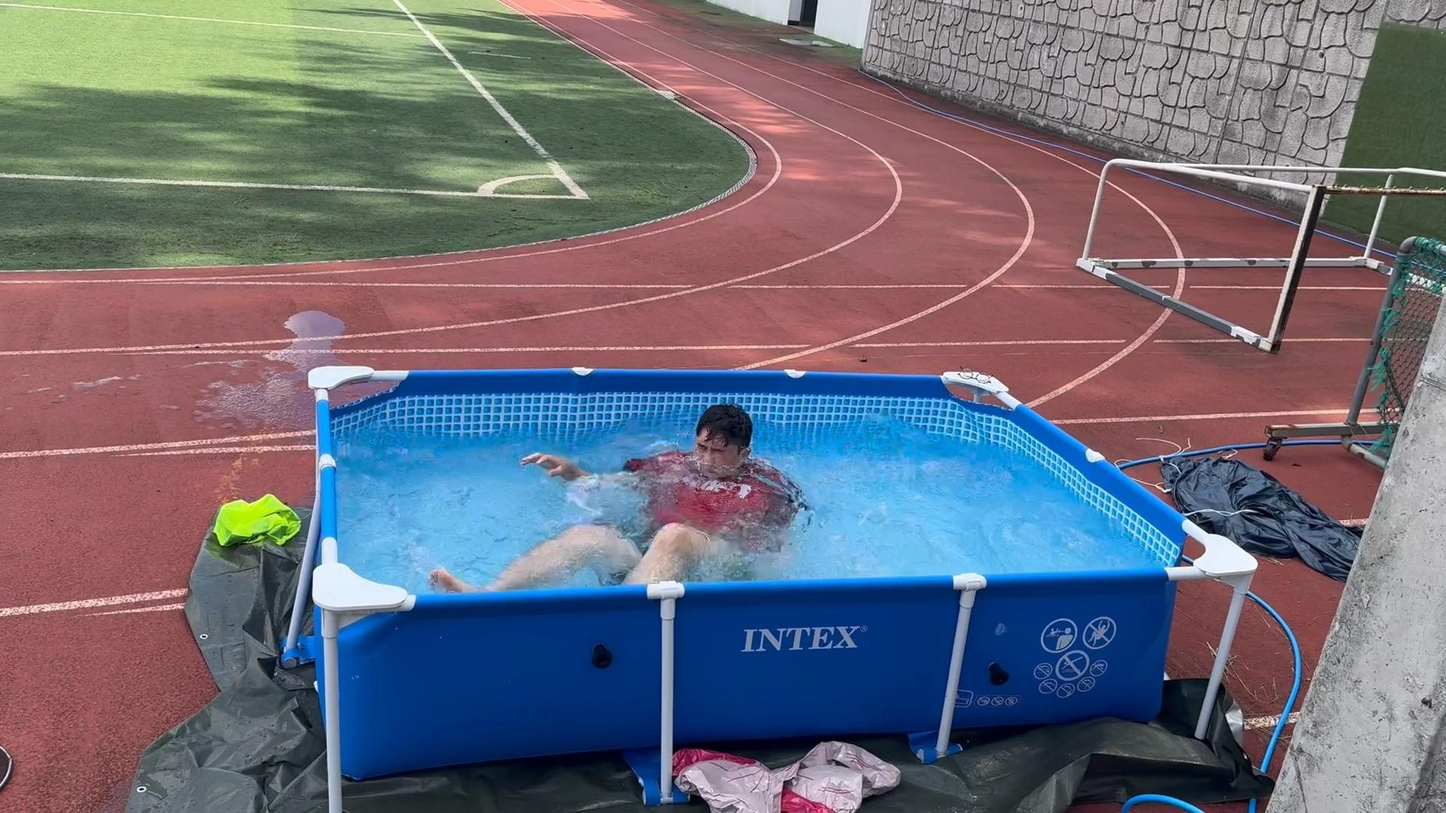Drowning: (426, 398, 857, 595)
